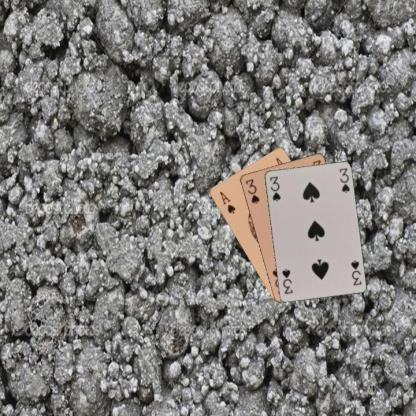3s: (242, 176, 260, 205), (267, 174, 281, 203), (348, 258, 362, 286)
As: (217, 188, 236, 215)
